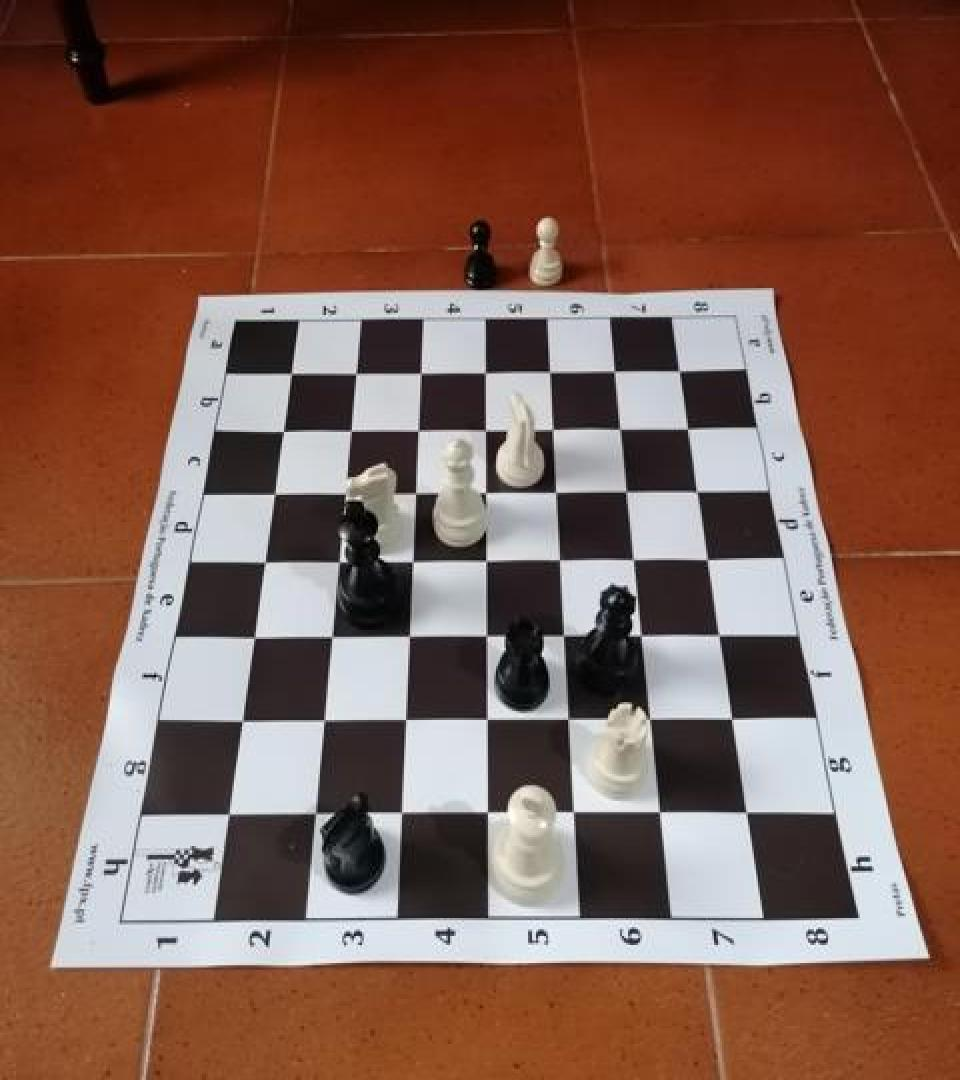xcorner: (535, 356, 565, 390), (470, 356, 500, 390), (405, 358, 435, 392), (340, 358, 370, 392), (275, 359, 305, 393), (674, 412, 704, 446), (606, 413, 636, 447), (538, 413, 568, 447), (470, 414, 500, 448), (403, 414, 433, 448), (335, 415, 365, 449), (267, 415, 297, 449), (542, 476, 572, 510), (471, 476, 501, 510), (400, 477, 430, 511), (329, 477, 359, 511), (259, 478, 289, 512), (695, 543, 725, 577), (620, 543, 650, 577), (546, 544, 576, 578), (472, 544, 502, 578), (397, 546, 427, 580), (323, 546, 353, 580), (249, 546, 279, 580), (707, 618, 737, 652), (629, 618, 659, 652), (550, 618, 580, 652), (472, 620, 502, 654), (394, 620, 424, 654), (316, 621, 346, 655), (239, 621, 269, 655), (720, 701, 750, 735), (638, 702, 668, 736), (555, 702, 585, 736), (473, 703, 503, 737), (391, 703, 421, 737), (309, 704, 339, 738), (227, 704, 257, 738), (735, 794, 765, 828), (648, 794, 678, 828), (561, 795, 591, 829), (474, 795, 504, 829), (387, 796, 417, 830), (301, 796, 331, 830), (214, 798, 244, 832), (665, 356, 695, 389), (600, 356, 630, 389), (684, 475, 714, 508), (613, 475, 643, 508)
